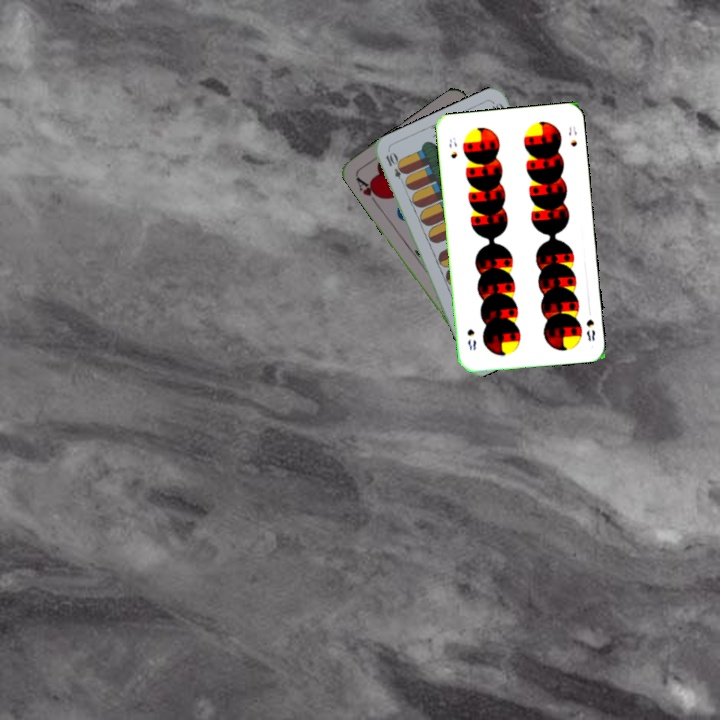E10: (381, 149, 408, 188)
HA: (352, 172, 384, 207)
S8: (582, 315, 597, 344), (445, 133, 460, 161)
